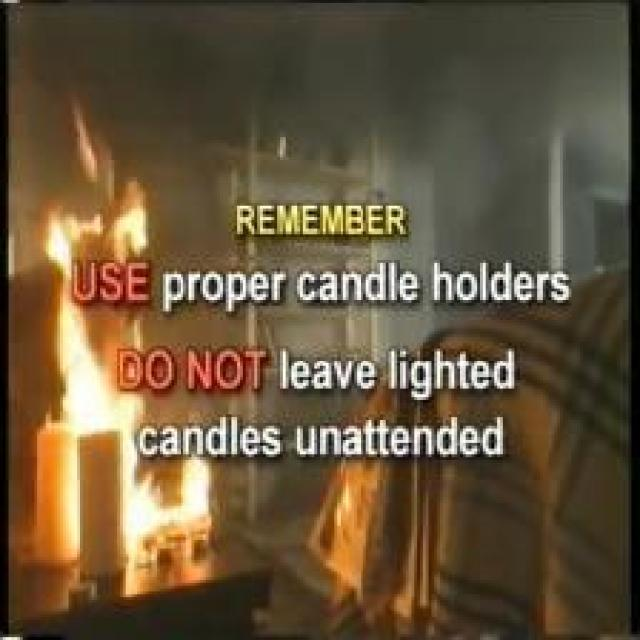fire: (21, 109, 211, 559)
